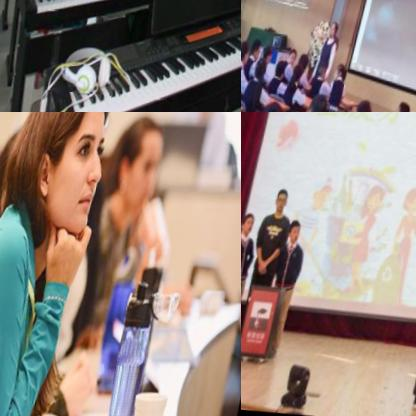head: (5, 112, 120, 251), (107, 112, 178, 224), (303, 89, 334, 112), (252, 95, 292, 112), (286, 216, 306, 243), (316, 56, 335, 82), (249, 35, 267, 62), (333, 60, 350, 86), (274, 56, 291, 82), (241, 211, 258, 235), (391, 97, 416, 112), (276, 187, 291, 212), (254, 58, 271, 80), (292, 62, 306, 88), (297, 50, 313, 72), (241, 37, 254, 62), (263, 44, 278, 64), (287, 45, 300, 68), (329, 20, 341, 40)
